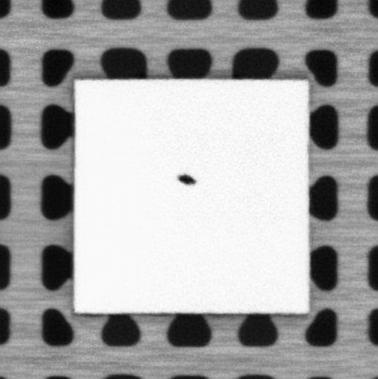DIE_INK: (175, 172, 197, 185)
